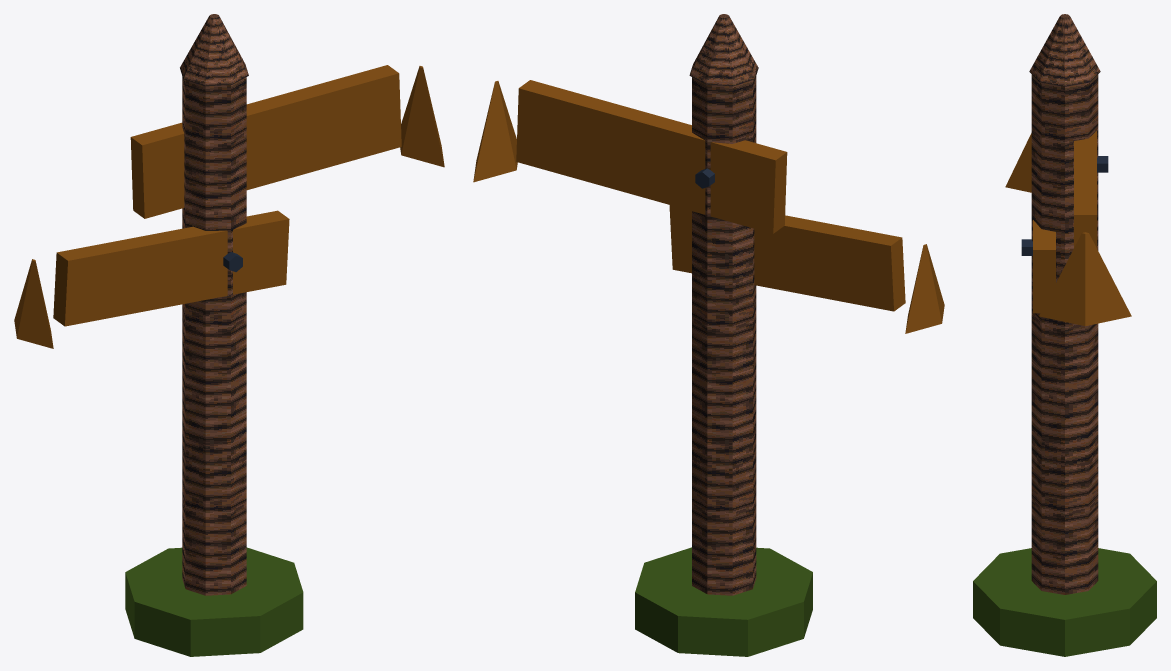
File: cartel_madera.glb
3 renders of one model, left to right at view 1: azimuth 30°, elevation 25°; view 2: azimuth 150°, elevation 25°; view 3: azimuth 270°, elevation 25°, orthographic.
Visible parts, largest first — view 1: Cylinder.001, Cube, Cube.001, Cylinder, Cone, Cone.001, Cone.002; view 2: Cylinder.001, Cube, Cylinder, Cube.001, Cone, Cone.001, Cone.002; view 3: Cylinder.001, Cylinder, Cone.001, Cone, Cube, Cube.001, Cone.002.
Part boxes in pixels (left/top/right/bottom): Cylinder.001: left=182, top=77, right=246, bottom=595; Cube: left=130, top=65, right=401, bottom=218; Cube.001: left=53, top=210, right=289, bottom=326; Cylinder: left=125, top=547, right=303, bottom=656; Cone: left=180, top=14, right=248, bottom=86; Cone.001: left=400, top=66, right=444, bottom=167; Cone.002: left=14, top=259, right=53, bottom=348; Cylinder.001: left=692, top=76, right=756, bottom=595; Cube: left=516, top=80, right=787, bottom=233; Cylinder: left=635, top=547, right=812, bottom=656; Cube.001: left=669, top=205, right=905, bottom=311; Cone: left=689, top=14, right=758, bottom=86; Cone.001: left=473, top=81, right=517, bottom=182; Cone.002: left=905, top=244, right=944, bottom=333; Cylinder.001: left=1031, top=74, right=1098, bottom=594; Cylinder: left=973, top=548, right=1156, bottom=656; Cone.001: left=1039, top=232, right=1131, bottom=326; Cone: left=1029, top=14, right=1100, bottom=86; Cube: left=1074, top=131, right=1096, bottom=247; Cube.001: left=1033, top=220, right=1055, bottom=313; Cone.002: left=1005, top=133, right=1031, bottom=192.
Size of the model in its own units: 1 by 1.3 by 0.36.
4 materials, 1 textured.
